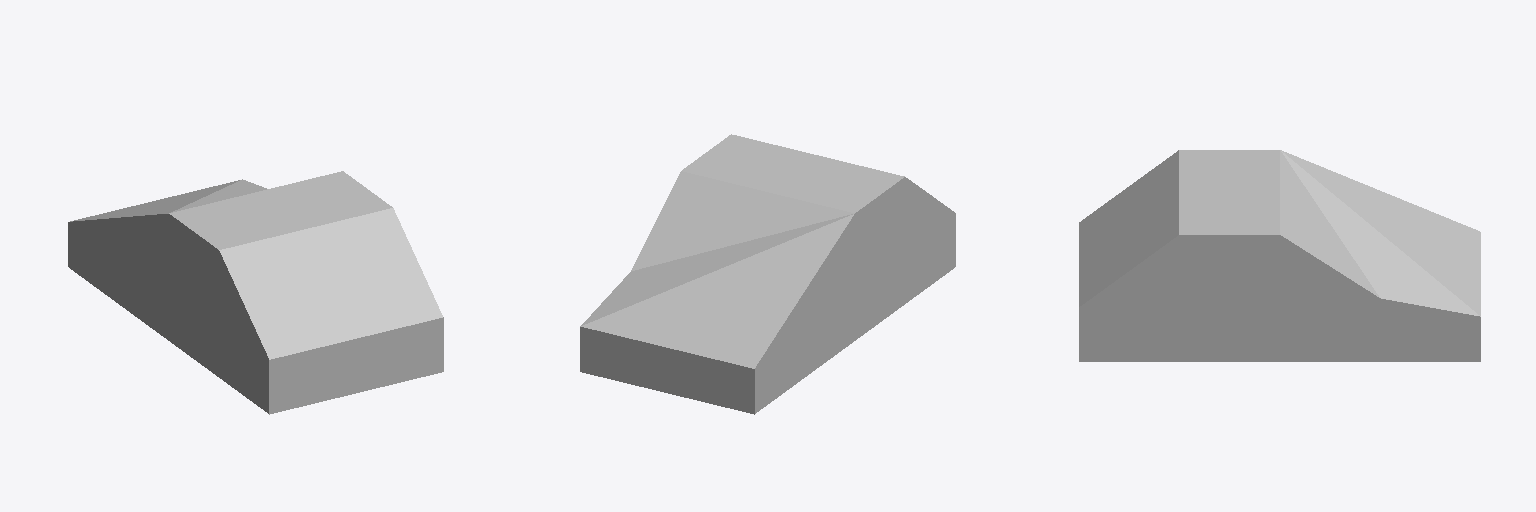
The model's file is mertan.obj.
3 views of the same model, side by side, from view 1: azimuth 30°, elevation 25°; view 2: azimuth 150°, elevation 25°; view 3: azimuth 270°, elevation 25° (orthographic).
Parts seen in each view (by area): view 1: Cube.001; view 2: Cube.001; view 3: Cube.001.
Boxes of the visible parts, x1,y1,x2,y2 form: Cube.001: [68, 171, 443, 414]; Cube.001: [580, 134, 955, 414]; Cube.001: [1079, 150, 1480, 361].
Size of the model in its own units: 0.25 by 0.175 by 0.5.